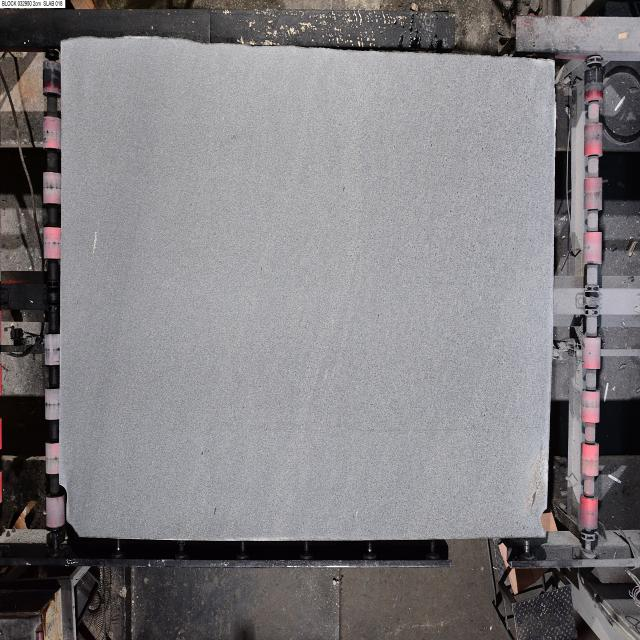chapa: (60, 38, 555, 540)
veio: (537, 504, 554, 535)
